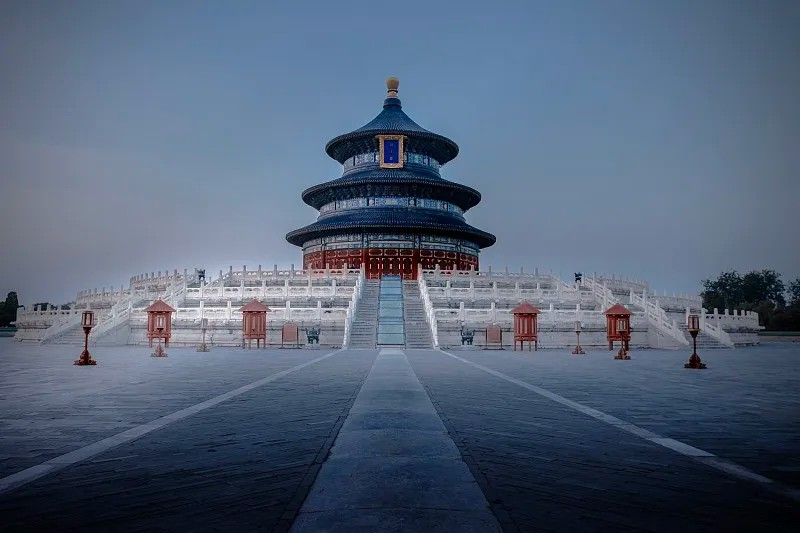Heaven: (285, 78, 496, 279)
